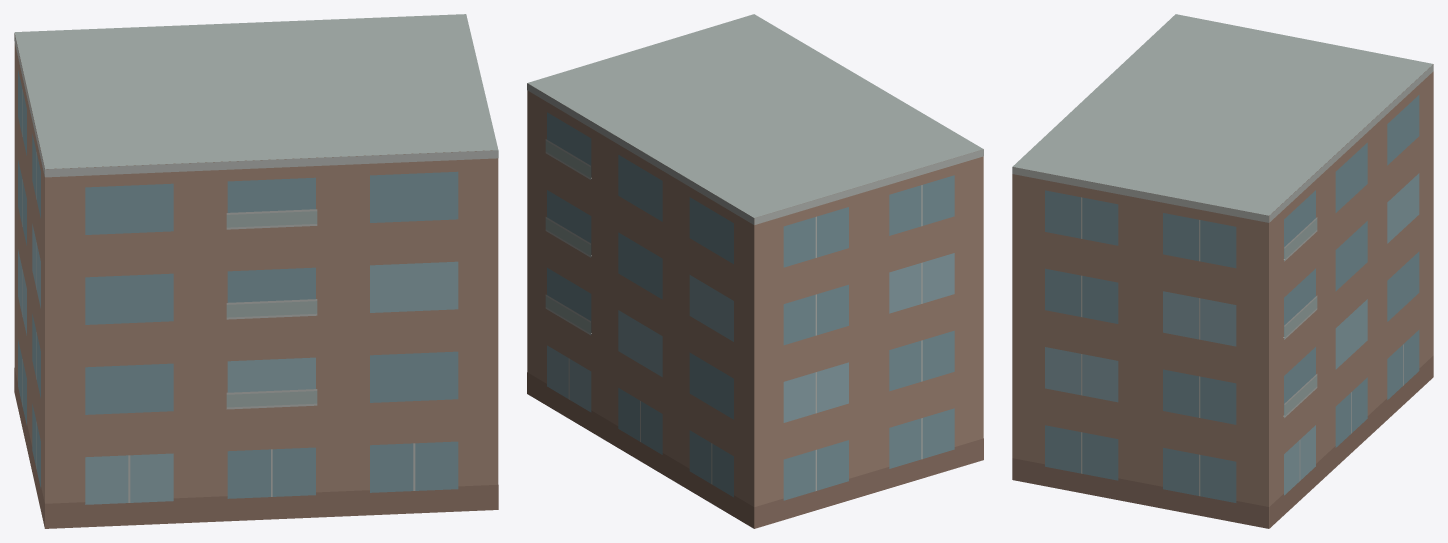
The model's file is survey-upis-32645208.glb.
3 views of the same model, side by side, from view 1: azimuth 30°, elevation 25°; view 2: azimuth 150°, elevation 25°; view 3: azimuth 270°, elevation 25° (orthographic). The views are drawn at different scales.
Visible parts, largest first — view 1: survey-upis-32645208.tmp; view 2: survey-upis-32645208.tmp; view 3: survey-upis-32645208.tmp.
Boxes of the visible parts, left/top/right/bottom form: survey-upis-32645208.tmp: left=14, top=14, right=498, bottom=528; survey-upis-32645208.tmp: left=527, top=14, right=983, bottom=528; survey-upis-32645208.tmp: left=1012, top=14, right=1433, bottom=528.
Bounding box in the file's own units: 14.65 × 10.6 × 12.93.
